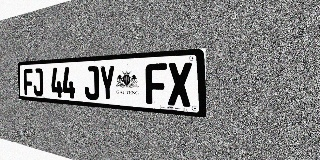4: (62, 67, 75, 99), (51, 67, 63, 98)
F: (145, 63, 167, 105), (23, 69, 33, 96)
J: (84, 66, 99, 100), (33, 68, 43, 96)
X: (167, 62, 192, 107)
Y: (99, 65, 116, 101)
